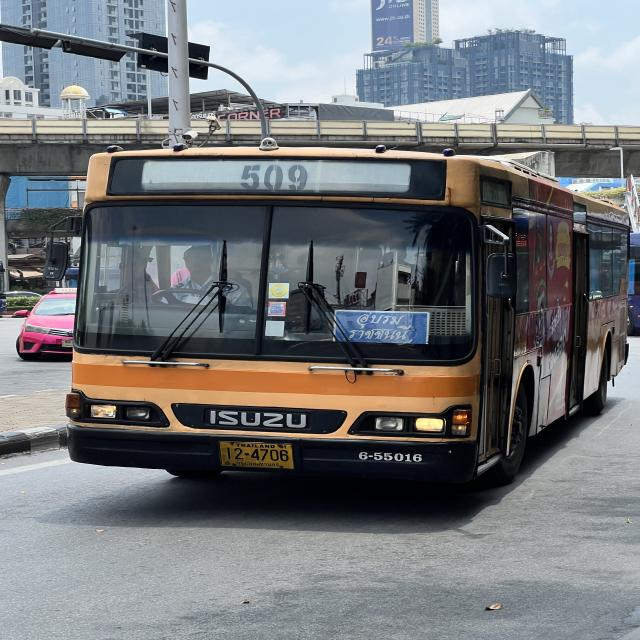BMTA-bus: (62, 148, 632, 490)
Bus-Line-Number: (230, 159, 321, 197)
Destination-Sign-Normal: (332, 310, 429, 343)
